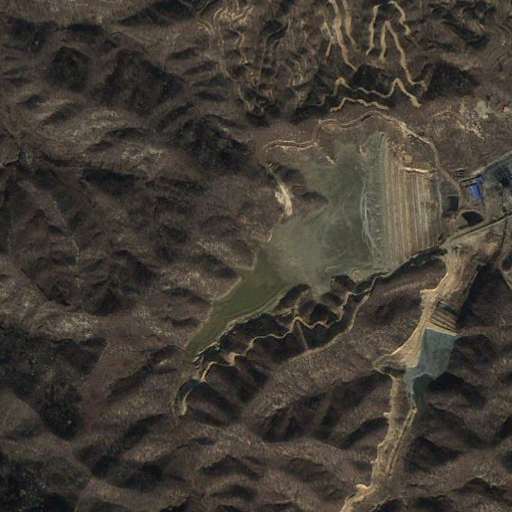tp: (181, 133, 454, 365), (404, 305, 457, 402)
